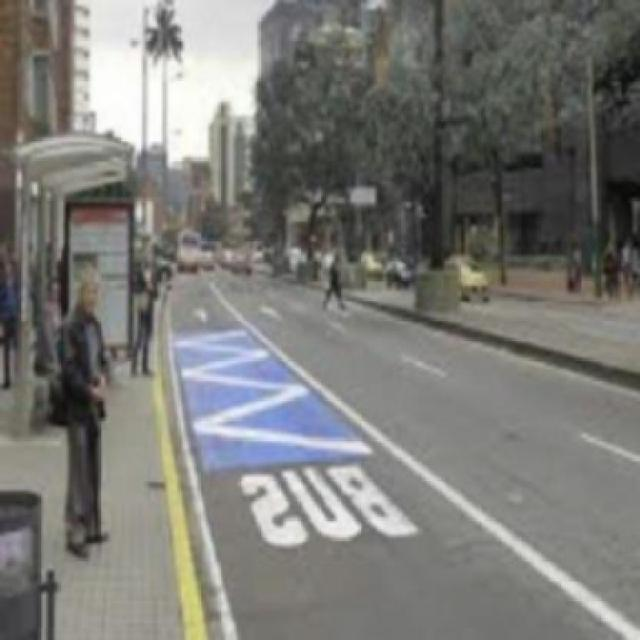Person: (55, 262, 113, 561), (129, 228, 166, 379), (318, 243, 352, 320)
